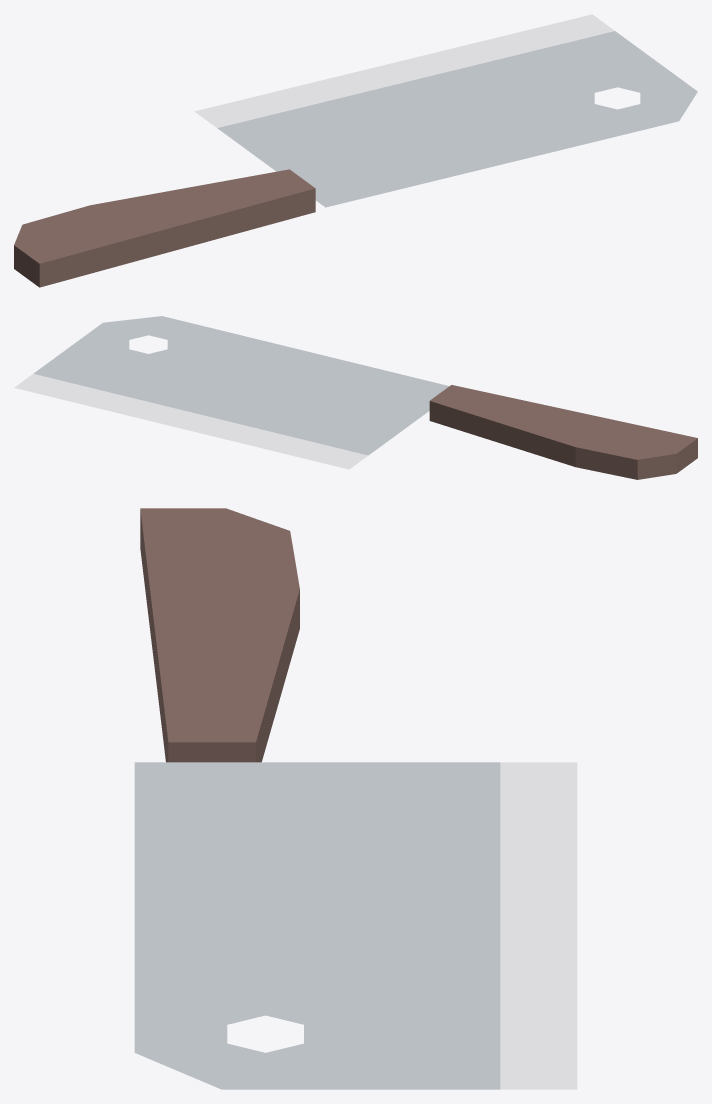
The model's file is knifeChop.glb.
3 renders of one model, top to bottom at view 1: azimuth 30°, elevation 25°; view 2: azimuth 150°, elevation 25°; view 3: azimuth 270°, elevation 25°, orthographic. The views are drawn at different scales.
Visible parts, largest first — view 1: cookingKnifeChopping; view 2: cookingKnifeChopping; view 3: cookingKnifeChopping.
Part boxes in pixels (left/top/right/bottom): cookingKnifeChopping: left=14, top=14, right=697, bottom=287; cookingKnifeChopping: left=14, top=316, right=697, bottom=479; cookingKnifeChopping: left=134, top=508, right=577, bottom=1089.
Size of the model in its own units: 0.6 by 0.02 by 0.2.
